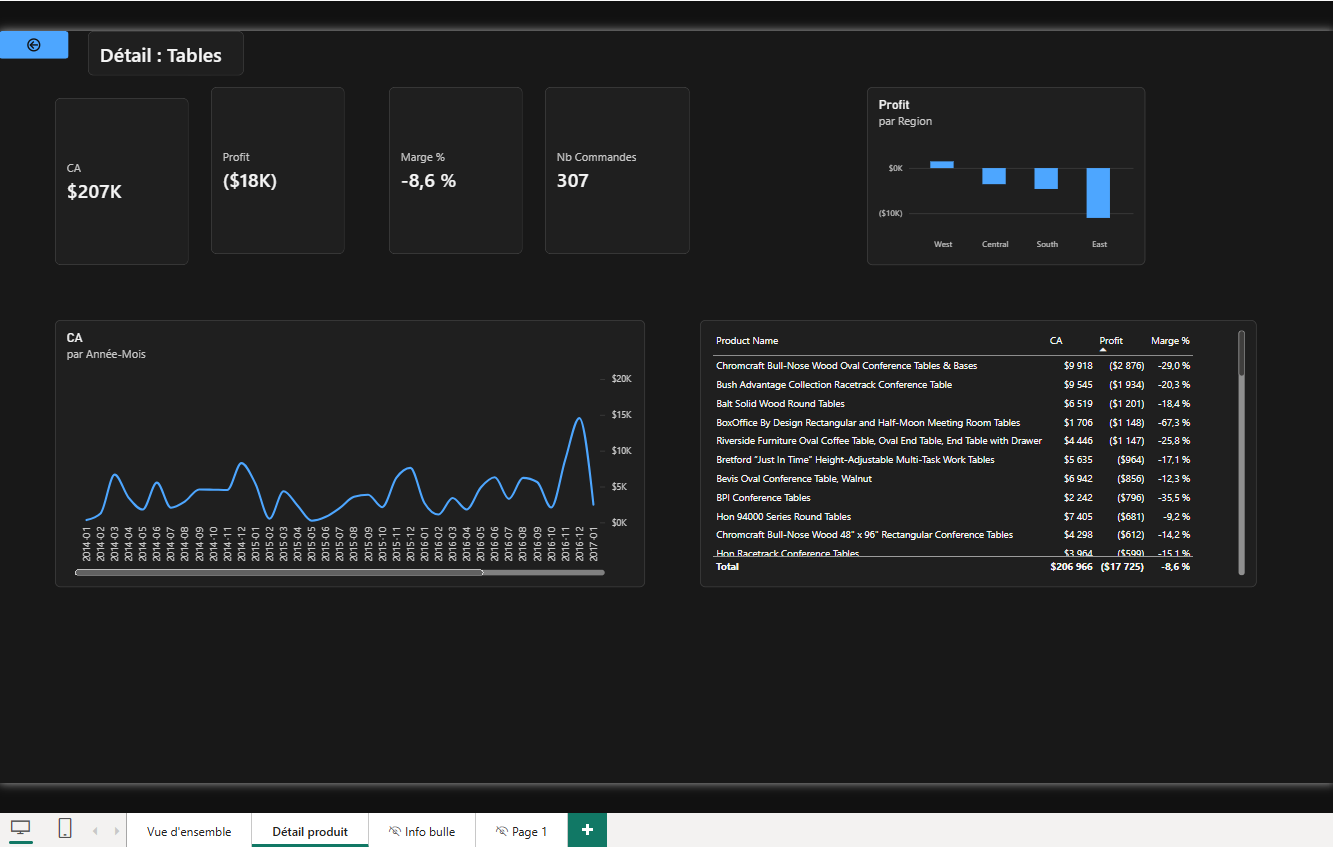

What the dashboard file says about the page in this screenshot:
{"tool":"powerbi","page":{"name":"Détail produit","canvas":[1920,1080],"ordinal":1},"visuals":[{"type":"actionButton","box":[0,0,100,40],"z":0},{"type":"cardVisual","fields":{"Data":["Mesures.CA"]},"box":[80,96,192,240],"z":1000},{"type":"cardVisual","fields":{"Data":["Mesures.Profit"]},"box":[304,80,192,240],"z":2000},{"type":"cardVisual","fields":{"Data":["Mesures.Marge %"]},"box":[560,80,192,240],"z":3000},{"type":"cardVisual","fields":{"Data":["Mesures.Nb Commandes"]},"box":[784,80,208,240],"z":4000},{"type":"lineChart","fields":{"Category":["Calendrier.Année-Mois"],"Y2":["Mesures.CA"]},"box":[80,416,848,384],"z":5000},{"type":"tableEx","fields":{"Values":["Dim_produit.Product Name","Mesures.CA","Mesures.Profit","Mesures.Marge %"]},"box":[1008,416,800,384],"z":6000},{"type":"clusteredColumnChart","fields":{"Category":["Dim-Geo.Region"],"Y":["Mesures.Profit"]},"box":[1248,80,400,256],"z":7000},{"type":"cardVisual","fields":{"Data":["Mesures.Titre Détail"]},"box":[128,0,224,64],"z":7001}]}

Visuals, with their boxes on the page's 1920x1080 design canvas (x1, y1, x2, y2). These are canvas units, not pixel positions in the 1333x847 screenshot, which may show the page scaled, cropped or inside an application window:
actionButton: bbox(0, 0, 100, 40)
cardVisual - Mesures.CA: bbox(80, 96, 272, 336)
cardVisual - Mesures.Profit: bbox(304, 80, 496, 320)
cardVisual - Mesures.Marge %: bbox(560, 80, 752, 320)
cardVisual - Mesures.Nb Commandes: bbox(784, 80, 992, 320)
lineChart - Calendrier.Année-Mois x Mesures.CA: bbox(80, 416, 928, 800)
tableEx - Dim_produit.Product Name x Mesures.CA: bbox(1008, 416, 1808, 800)
clusteredColumnChart - Dim-Geo.Region x Mesures.Profit: bbox(1248, 80, 1648, 336)
cardVisual - Mesures.Titre Détail: bbox(128, 0, 352, 64)
